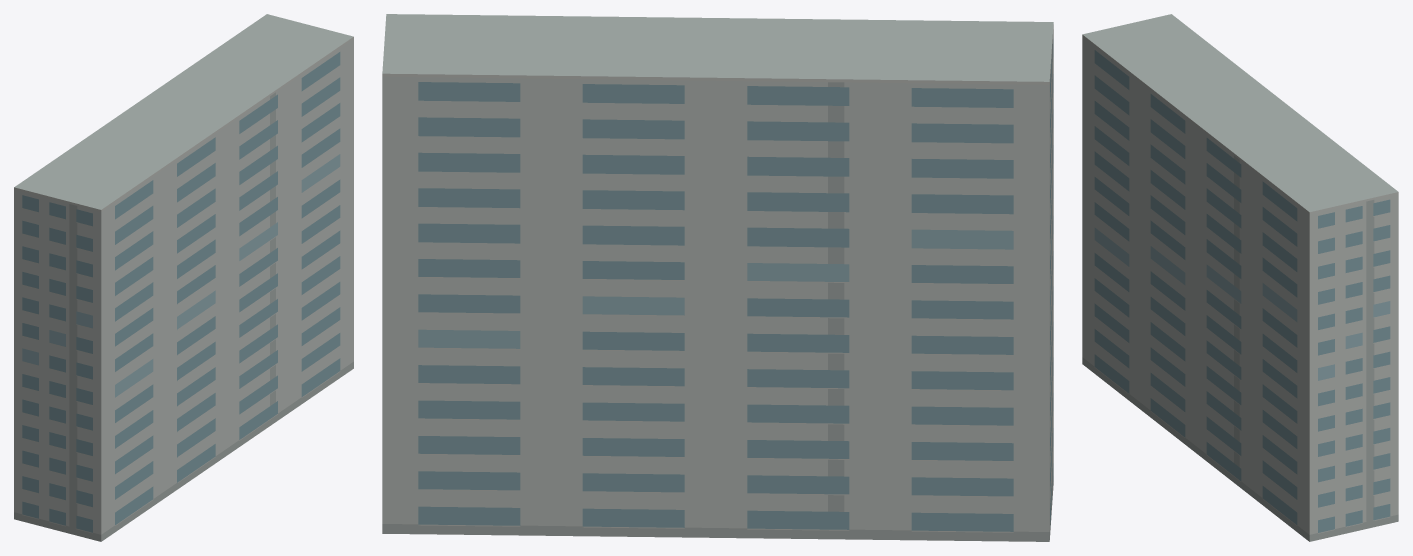
The model's file is residential-5aa5b3a9-b071-476b-976b-6fdec85914ba.glb.
3 views of the same model, side by side, from view 1: azimuth 30°, elevation 25°; view 2: azimuth 150°, elevation 25°; view 3: azimuth 270°, elevation 25° (orthographic). The views are drawn at different scales.
Visible parts, largest first — view 1: residential-5aa5b3a9-b071-476b-976b-6fdec85914ba.tmp; view 2: residential-5aa5b3a9-b071-476b-976b-6fdec85914ba.tmp; view 3: residential-5aa5b3a9-b071-476b-976b-6fdec85914ba.tmp.
Part boxes in pixels (x1=…): residential-5aa5b3a9-b071-476b-976b-6fdec85914ba.tmp: x1=14, y1=14, x2=353, y2=541; residential-5aa5b3a9-b071-476b-976b-6fdec85914ba.tmp: x1=382, y1=14, x2=1053, y2=541; residential-5aa5b3a9-b071-476b-976b-6fdec85914ba.tmp: x1=1082, y1=14, x2=1398, y2=541.
Bounding box in the file's own units: 47.73 × 37 × 32.19.
